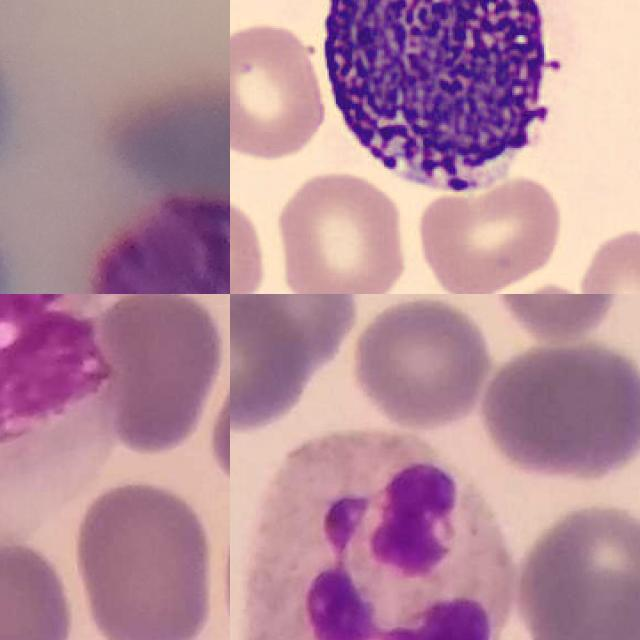Basophil: (306, 0, 578, 205), (84, 191, 230, 294)
Monocyte: (0, 294, 111, 463)
Neutrophil: (242, 429, 517, 640)
RBC: (410, 174, 567, 294), (270, 167, 410, 294), (230, 17, 329, 161), (560, 223, 640, 294), (230, 186, 275, 294)
